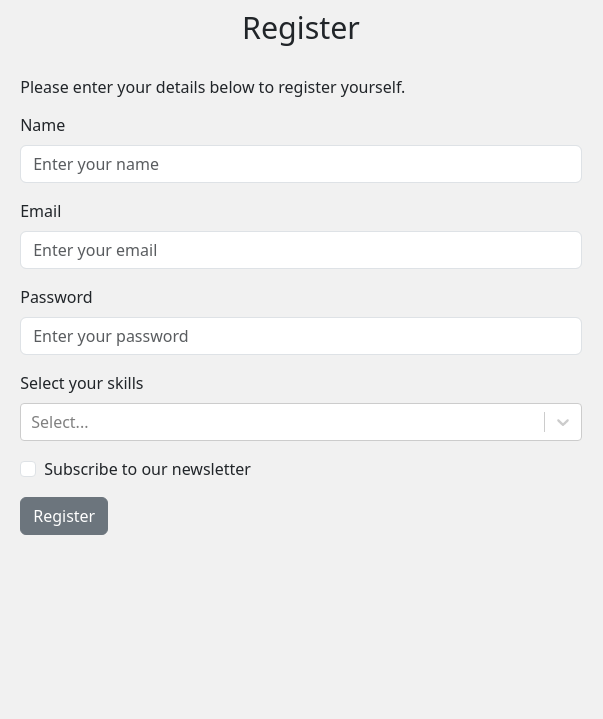
Test: Register Component › should show success message when the form is submitted with all the fields entered
Type "test name" into the field labelled "Name". click: [301, 164]
box: [20,145,582,183]
Type "test@email.com" into the field labelled "Email". click: [301, 250]
box: [20,231,582,269]
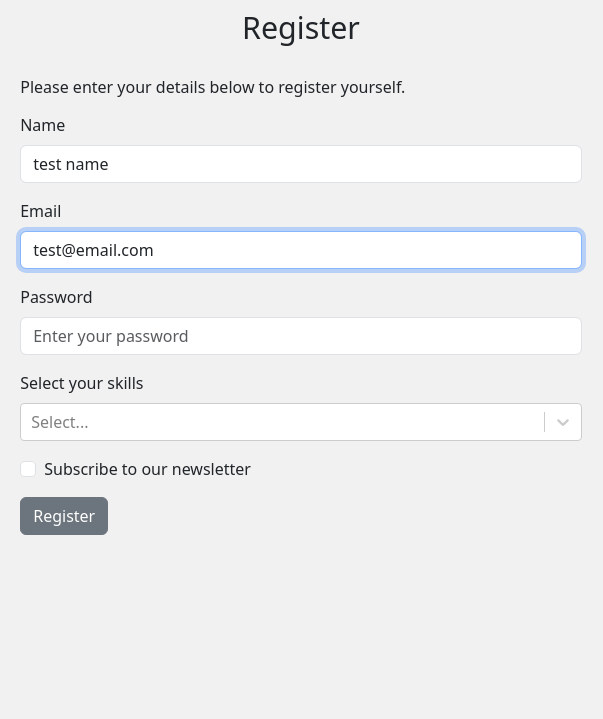
Type "testpassword" into the password field labelled "Password". click: [301, 336]
box: [20,317,582,355]
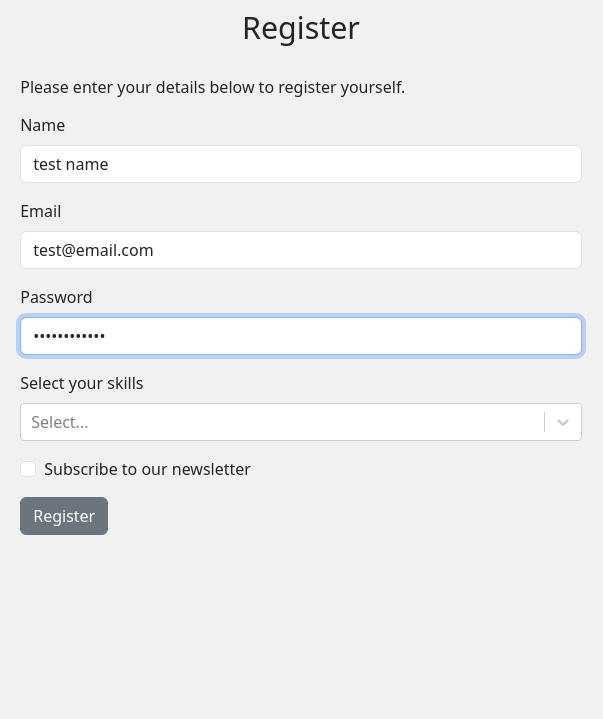
Click the element showing "Select...". click: [60, 422]
box: [31,410,88,434]
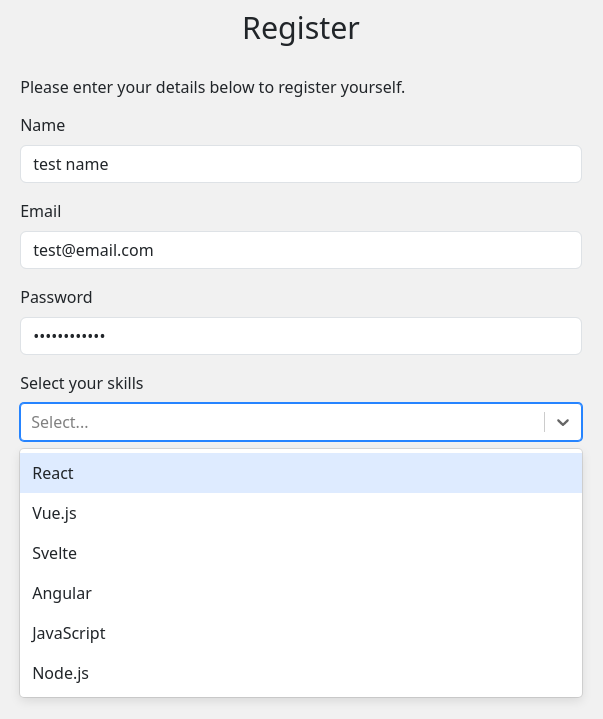
Press Enter
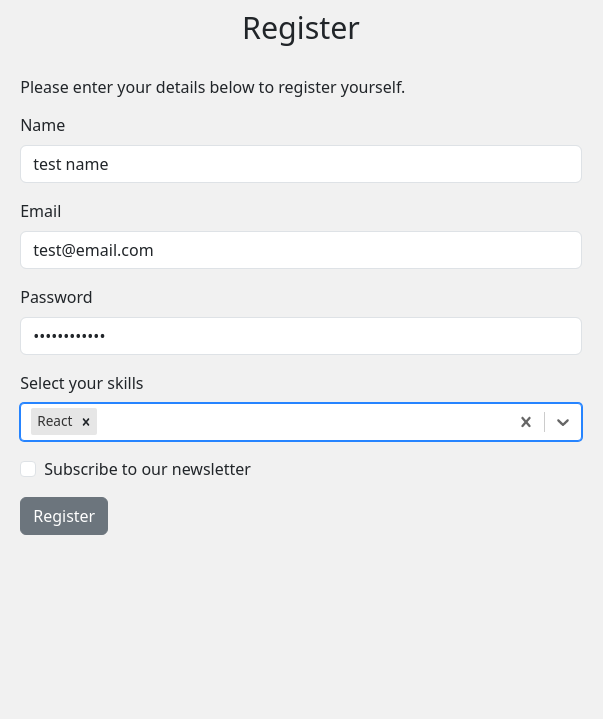
Click the checkbox labelled "Subscribe to our newsletter". click: [28, 469]
box: [20,461,36,477]
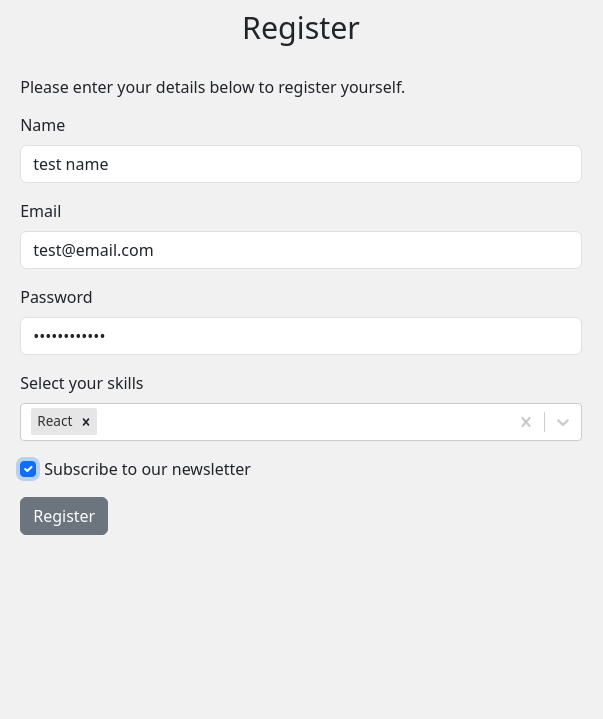
Click the button "Register". click: [64, 516]
box: [20,497,108,535]
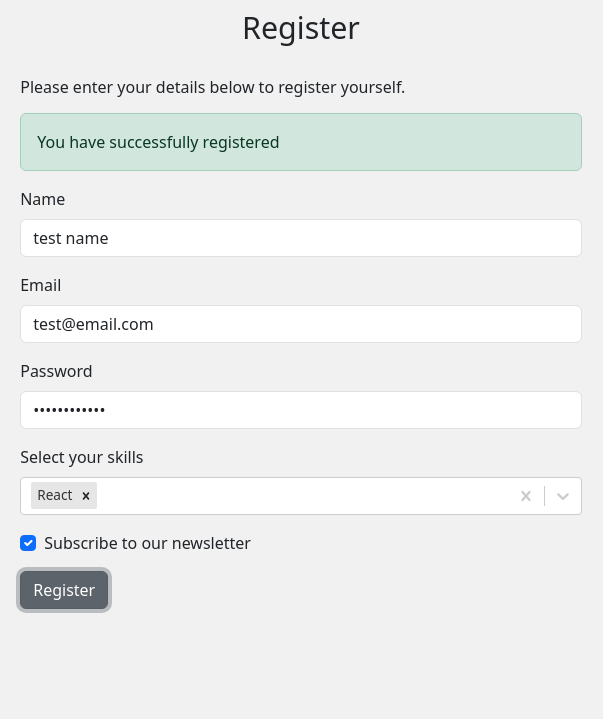
Now the message "You have successfully registered" is shown, box [20,113,582,171]
Now the message reads "You have successfully registered", box [37,131,280,153]
